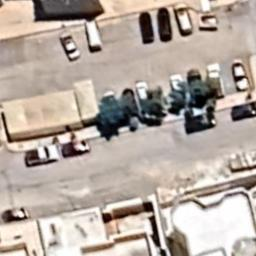SUV: (207, 62, 224, 98)
pickup: (24, 144, 60, 167), (61, 139, 91, 157)
sedan: (59, 30, 82, 62), (138, 10, 155, 46), (231, 62, 251, 91), (157, 7, 173, 43)
van: (174, 2, 192, 36), (84, 19, 102, 49)
